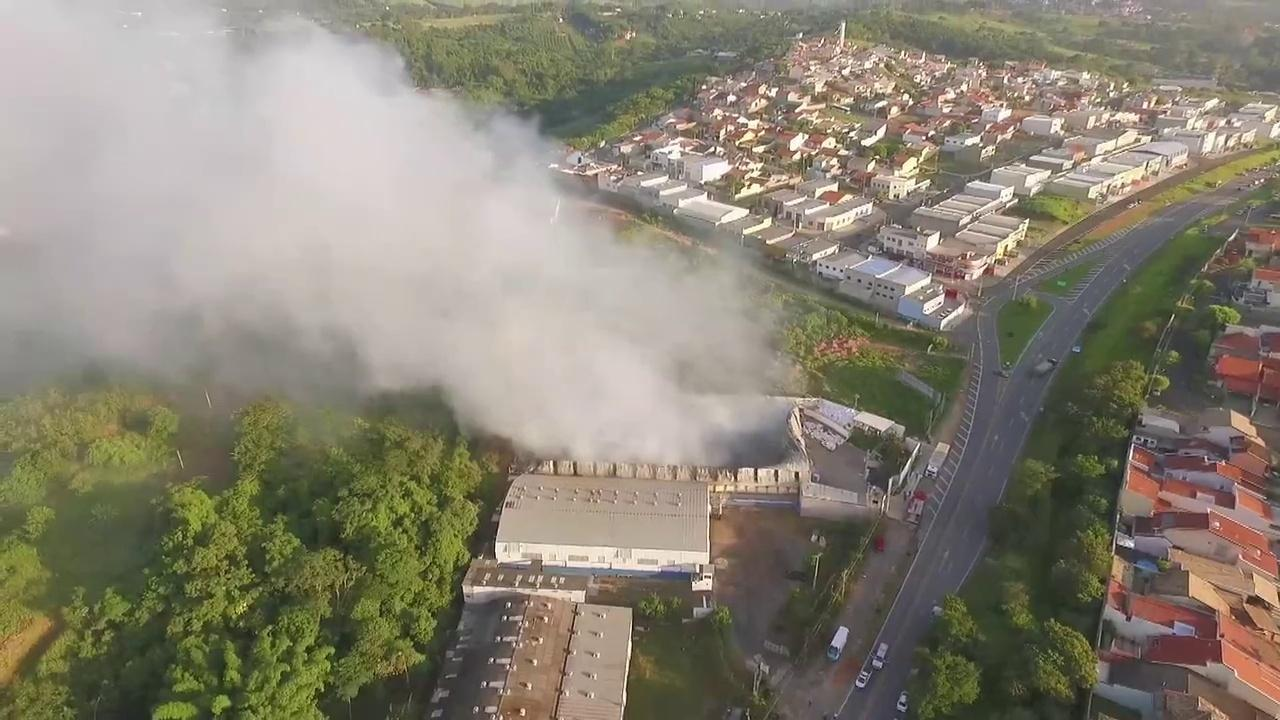smoke: (30, 68, 378, 308), (422, 242, 732, 432)
